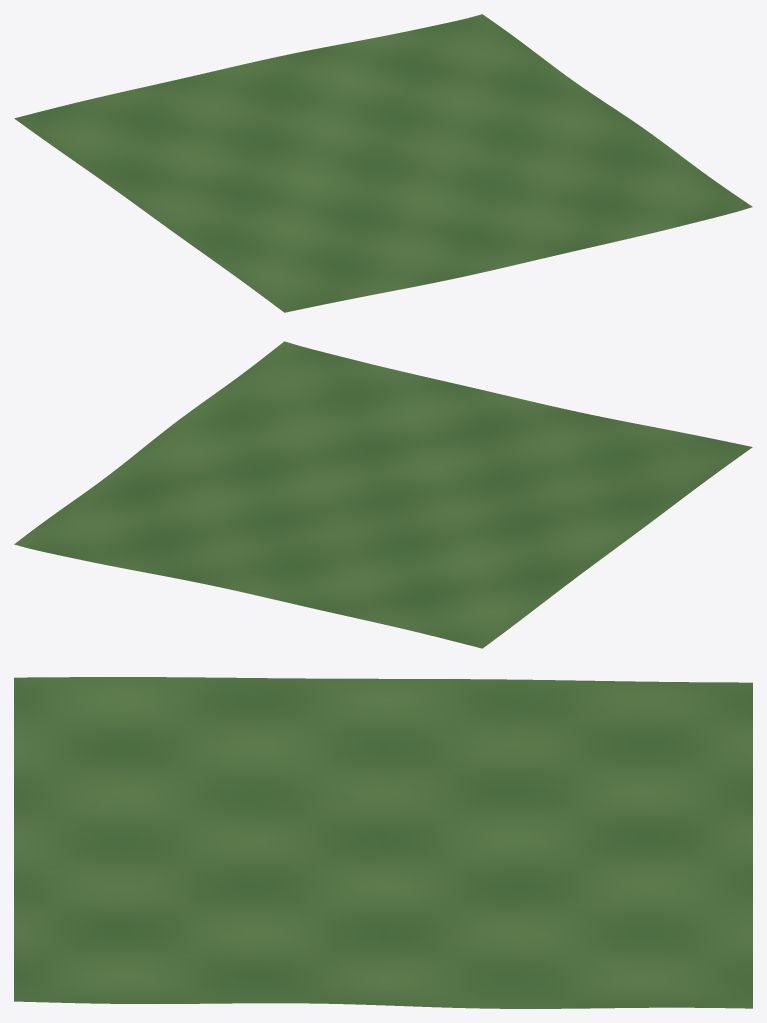
File: chunk_11_5.glb
3 views of the same model, one above another, from view 1: azimuth 30°, elevation 25°; view 2: azimuth 150°, elevation 25°; view 3: azimuth 270°, elevation 25° (orthographic). The views are drawn at different scales.
Bounding box in the file's own units: 512 × 15.2 × 512.
